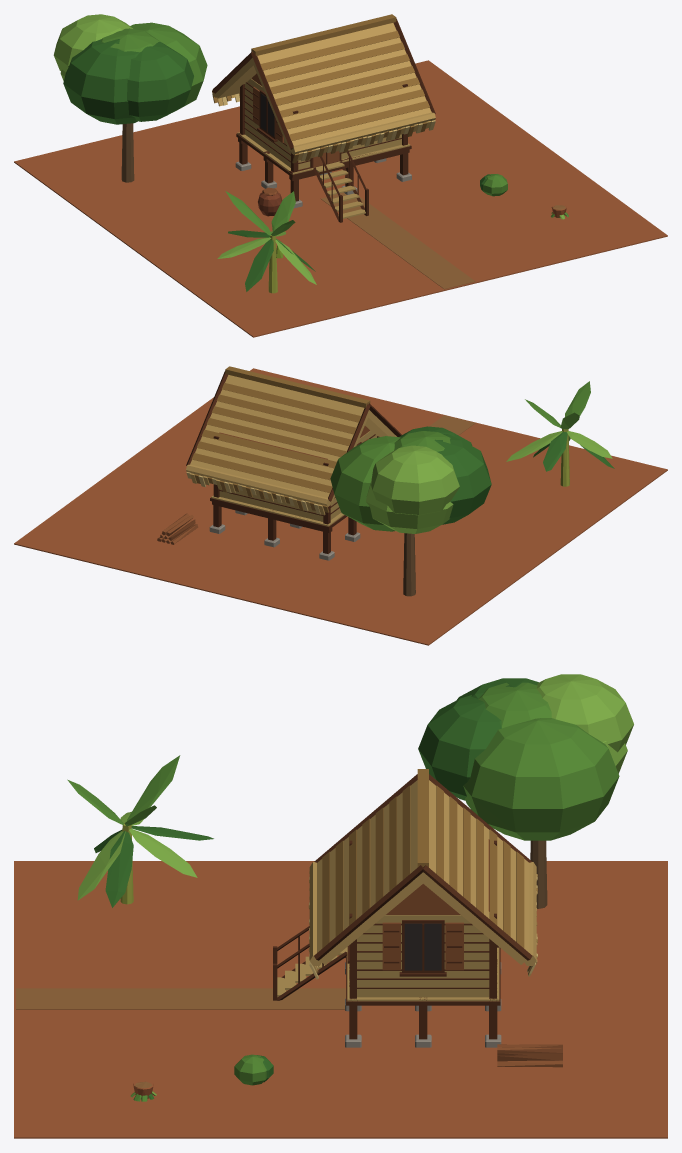
The model's file is home_1.glb.
The picture shows the model from 3 angles, top to bottom: view 1: azimuth 30°, elevation 25°; view 2: azimuth 150°, elevation 25°; view 3: azimuth 270°, elevation 25°; orthographic projection. The views are drawn at different scales.
Parts seen in each view (by area): view 1: body; view 2: body; view 3: body, windows.
Part boxes in pixels (x1,y1,x2,y2): body: [14, 14, 667, 337]; body: [14, 366, 667, 645]; body: [14, 674, 667, 1138]; windows: [404, 923, 441, 970].
Size of the model in its own units: 15.9 by 6.05 by 15.9.
